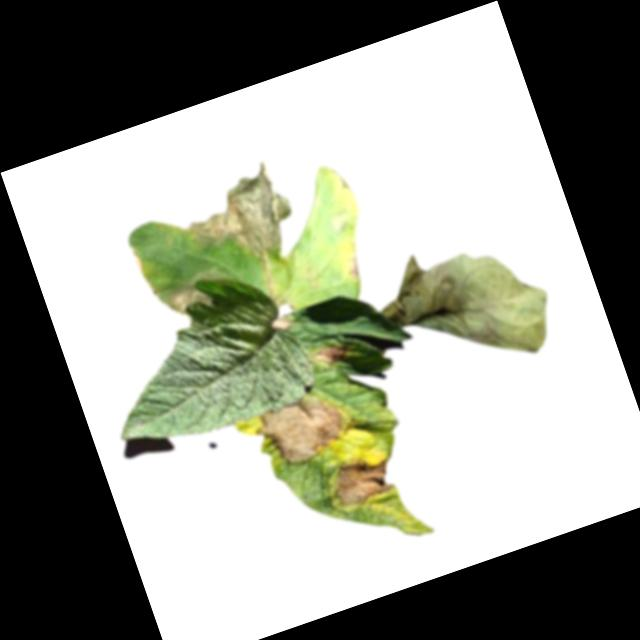Late_blight: (365, 214, 565, 397), (174, 157, 306, 284), (249, 386, 356, 476), (323, 445, 402, 514), (166, 274, 215, 324), (336, 243, 369, 286), (309, 339, 350, 371), (293, 262, 323, 295), (126, 244, 151, 278), (268, 313, 298, 336)
healthy: (80, 255, 321, 461)
